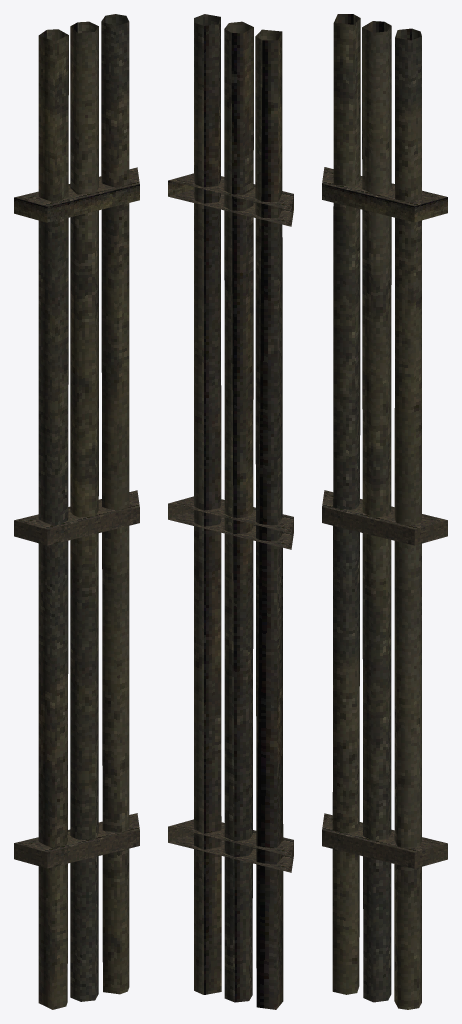
Rendered from pipes_hr_1.glb.
3 views of the same model, side by side, from view 1: azimuth 30°, elevation 25°; view 2: azimuth 150°, elevation 25°; view 3: azimuth 330°, elevation 25° (orthographic).
Parts seen in each view (by area): view 1: pipes_hr_1; view 2: pipes_hr_1; view 3: pipes_hr_1.
Part boxes in pixels (box(x1,y1,x2,y2)): pipes_hr_1: box(14, 14, 139, 1009); pipes_hr_1: box(168, 14, 293, 1009); pipes_hr_1: box(322, 14, 447, 1009).
Bounding box in the file's own units: 0.4 × 3 × 0.1.
Materials: 1 (1 with a texture image).
